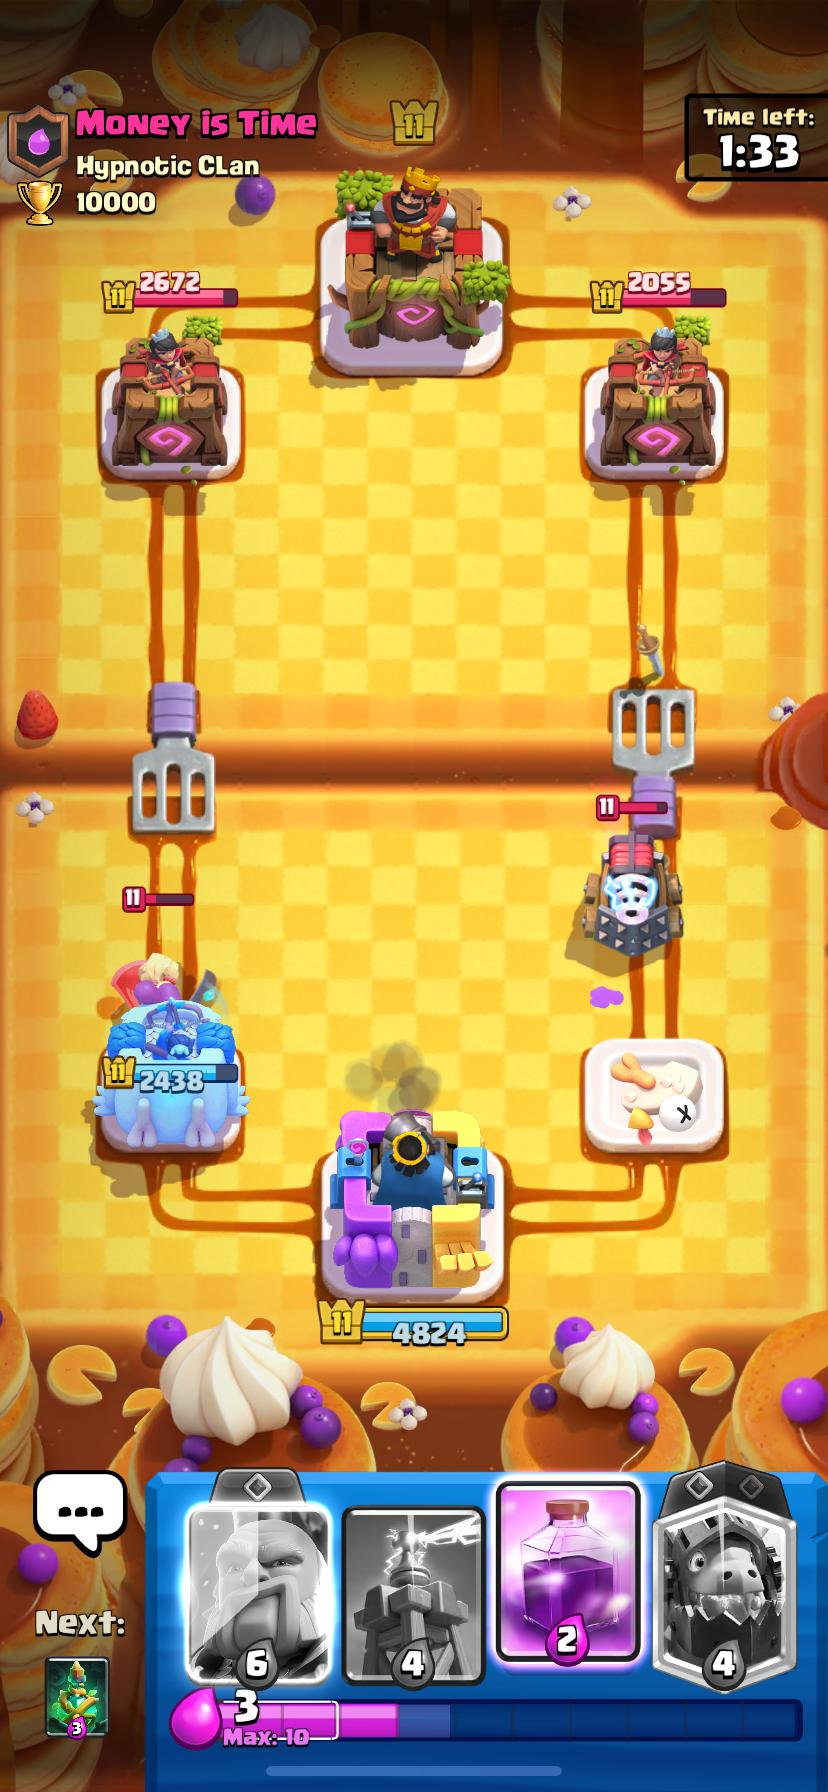EKingTower: (343, 167, 508, 351)
ESparky: (583, 831, 682, 957)
ESpritEmpWalk: (111, 953, 180, 1006)
EnemyPrincessTower: (112, 328, 226, 474), (600, 327, 714, 472)
OwnKingTower: (321, 1109, 503, 1306)
OwnPrincessTower: (91, 997, 248, 1151)
TowerDown: (583, 1037, 725, 1155)
